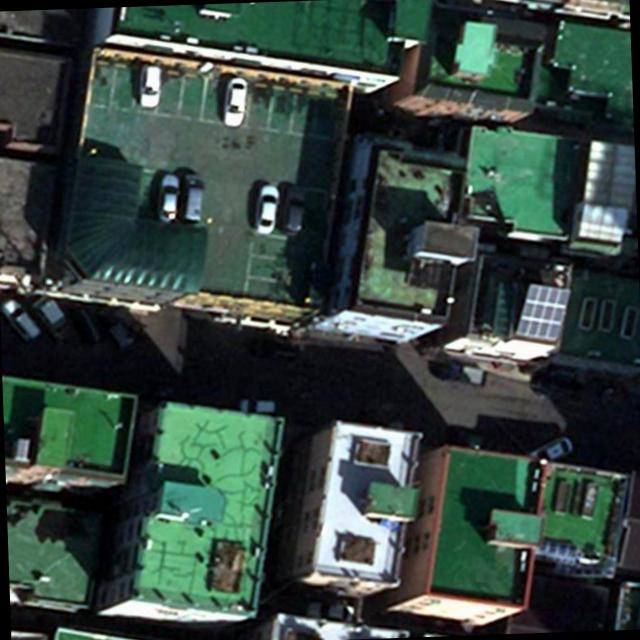solar: (510, 280, 575, 346)
